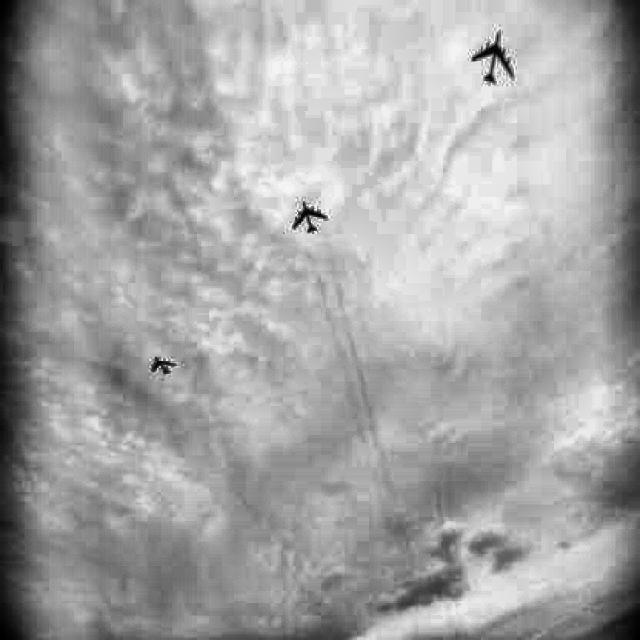B52: (470, 30, 515, 85), (292, 200, 328, 234), (152, 356, 176, 375)
